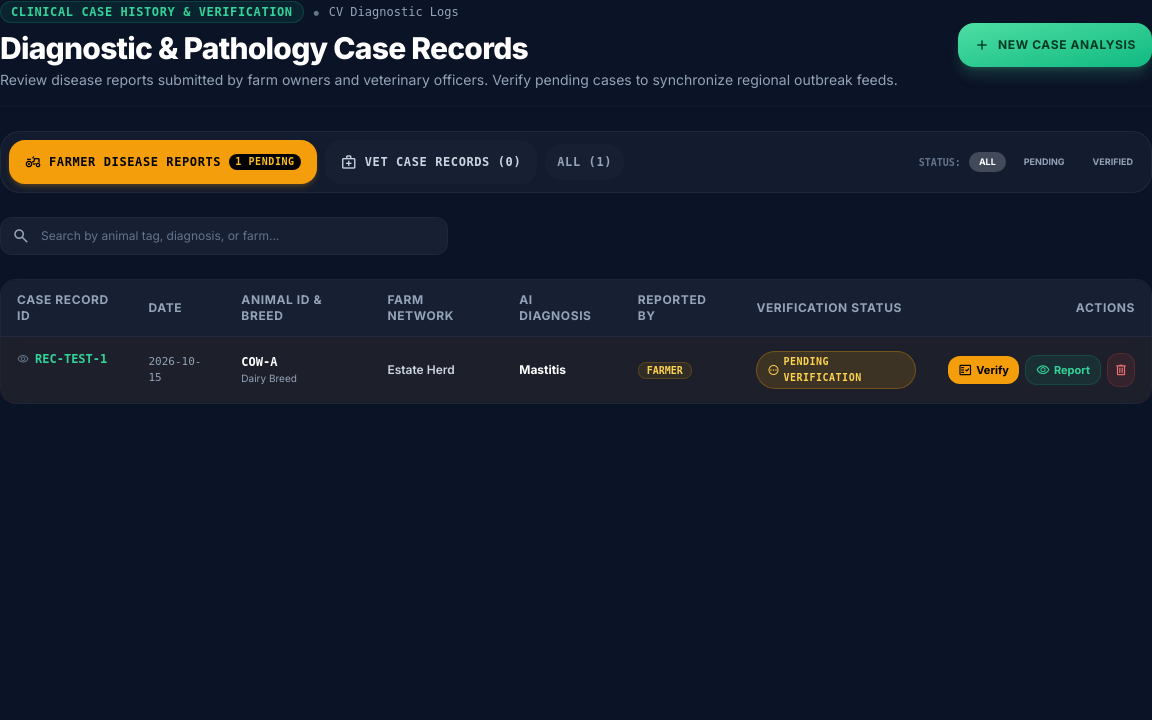
VetClinicalRecords Component Tests › retains the record and shows an error when deletion fails
Click the button titled "Delete Case Record". click: click(1121, 370)
box: [1107,353,1135,387]
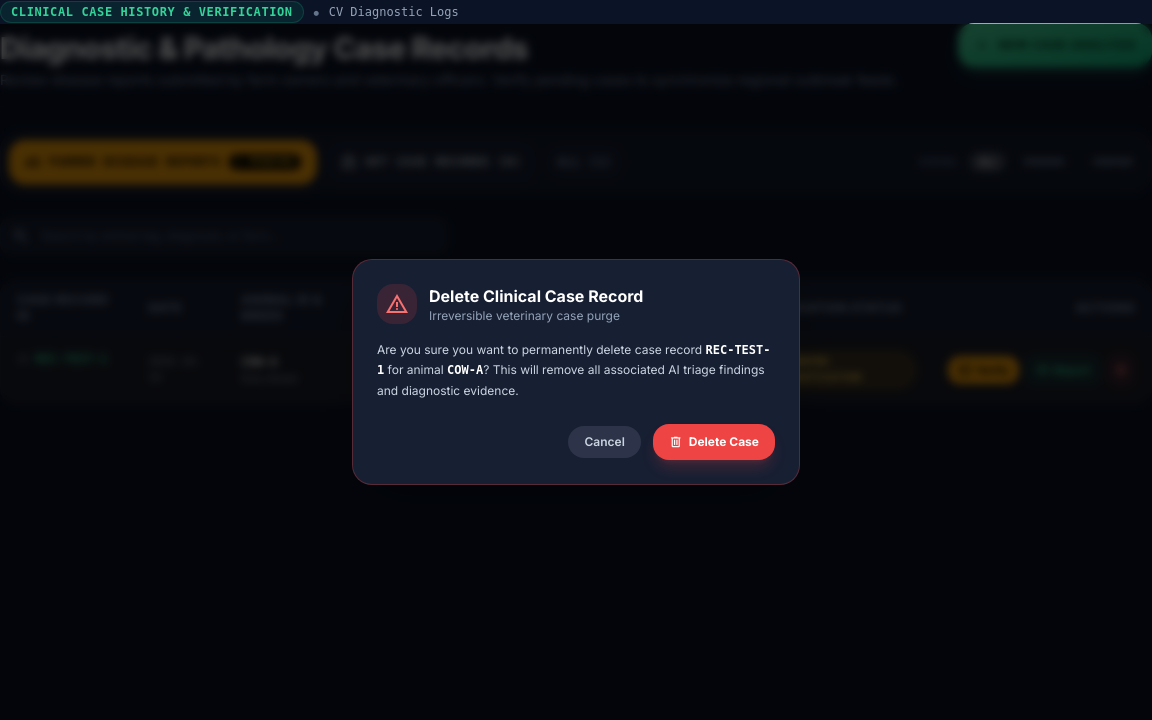
Click the button "Delete Case". click: click(714, 442)
box: [653,424,775,460]
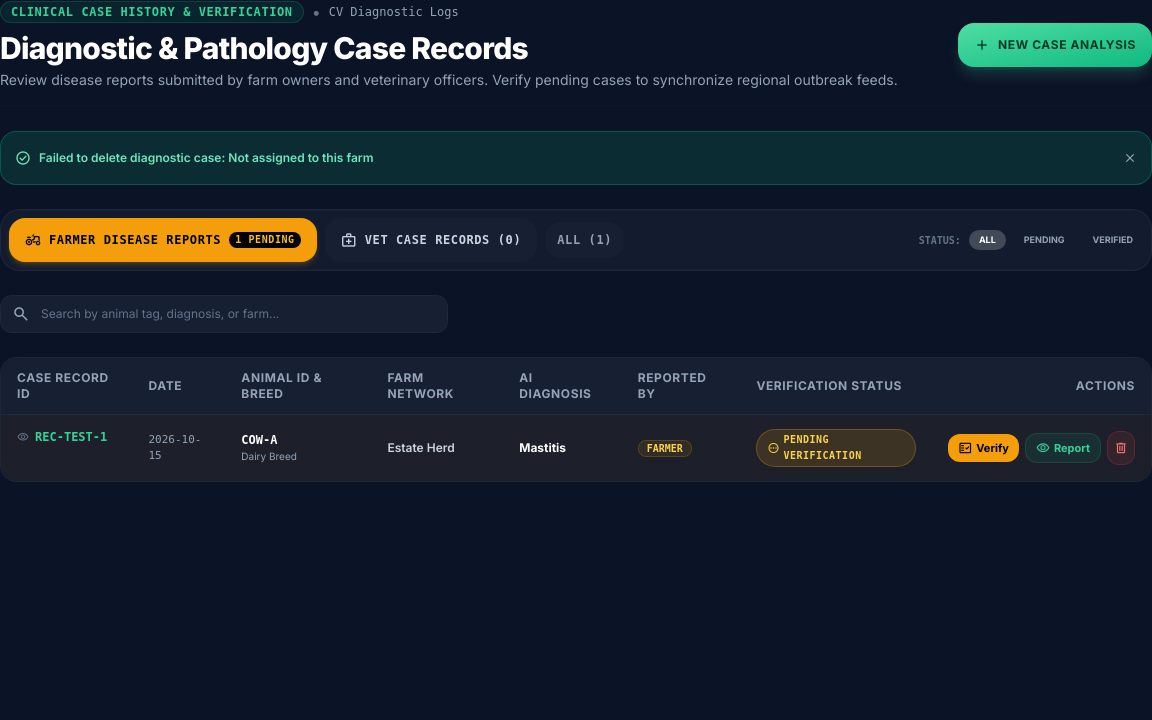
Expected: the text "REC-TEST-1" is shown, [35,429,107,445]
Result: the text "Failed to delete diagnostic case: Not assigned to this farm" is shown at [39,150,374,166]
